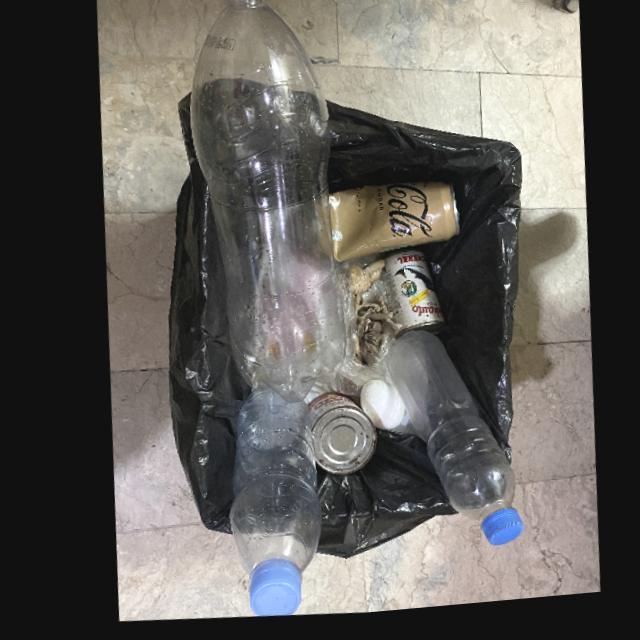biowaste: (345, 267, 391, 373), (352, 386, 398, 437)
metal: (324, 189, 455, 268), (297, 398, 368, 481), (375, 259, 441, 346)
plastic: (188, 0, 339, 403), (380, 338, 513, 555), (219, 388, 312, 620)
